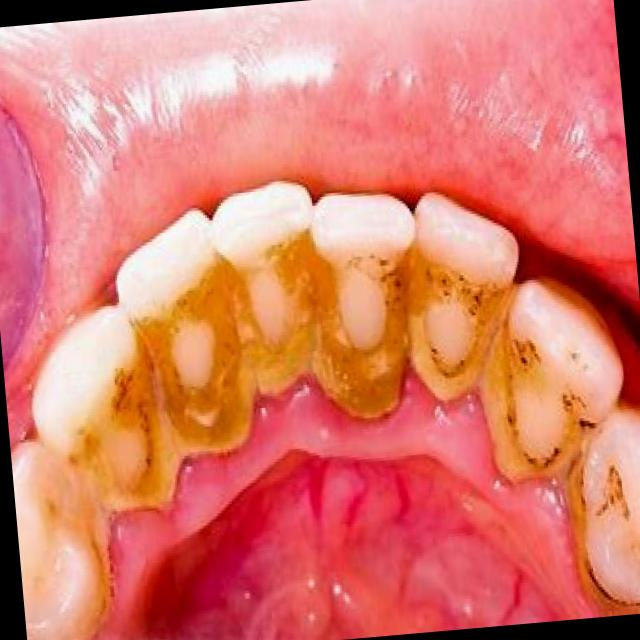calculus: (472, 327, 602, 491), (304, 245, 420, 425), (397, 272, 518, 419), (84, 348, 186, 520), (25, 503, 133, 640), (172, 270, 255, 447), (238, 224, 322, 398), (569, 460, 640, 616)
